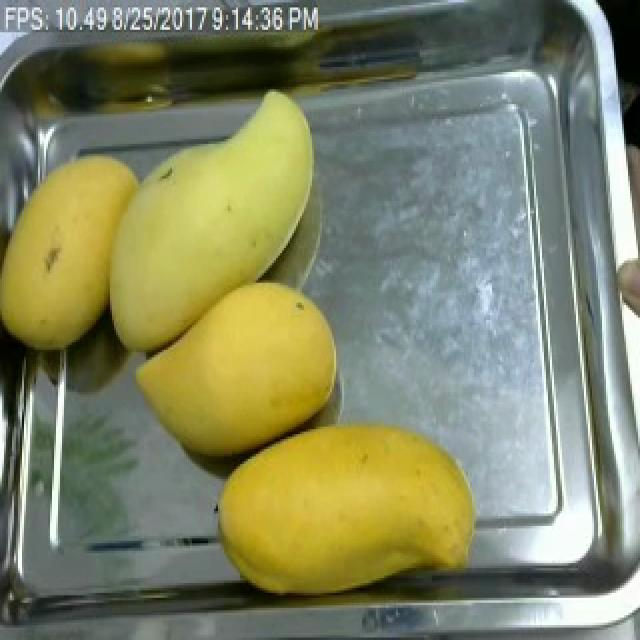fruit: (0, 136, 336, 370), (204, 407, 490, 608), (120, 268, 350, 469)
